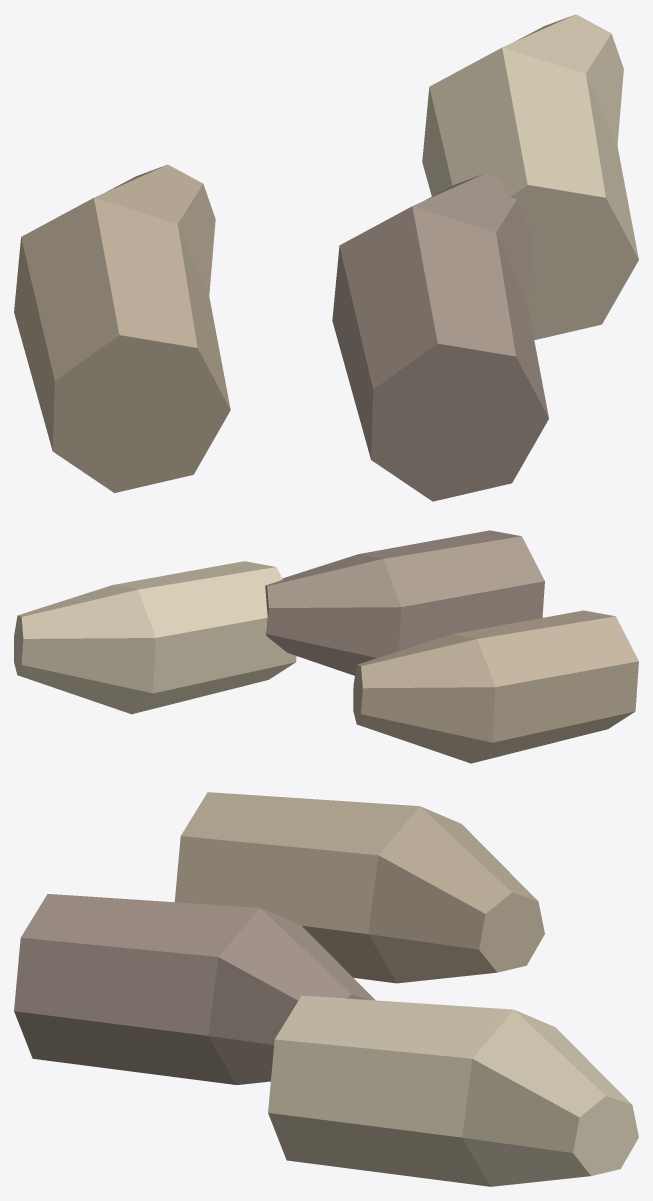
Rendered from root-bundle.glb.
3 renders of one model, top to bottom at view 1: azimuth 30°, elevation 25°; view 2: azimuth 150°, elevation 25°; view 3: azimuth 270°, elevation 25°, orthographic. The views are drawn at different scales.
Parts seen in each view (by area): view 1: Loose cut root, Loose cut root.001, Loose cut root.002; view 2: Loose cut root, Loose cut root.002, Loose cut root.001; view 3: Loose cut root.002, Loose cut root.001, Loose cut root.
Boxes of the visible parts, x1,y1,x2,y2 form: Loose cut root: (14, 164, 230, 492); Loose cut root.001: (332, 173, 548, 501); Loose cut root.002: (422, 14, 638, 339); Loose cut root: (353, 610, 638, 763); Loose cut root.002: (14, 561, 296, 714); Loose cut root.001: (265, 530, 544, 675); Loose cut root.002: (268, 995, 638, 1186); Loose cut root.001: (14, 894, 375, 1084); Loose cut root: (174, 792, 544, 983).
Size of the model in its own units: 1.12 by 0.2743 by 0.8829.
